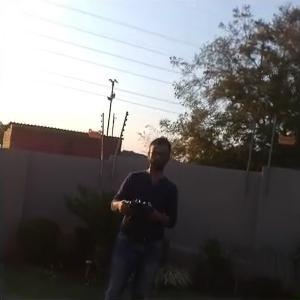follow: (95, 130, 184, 299)
